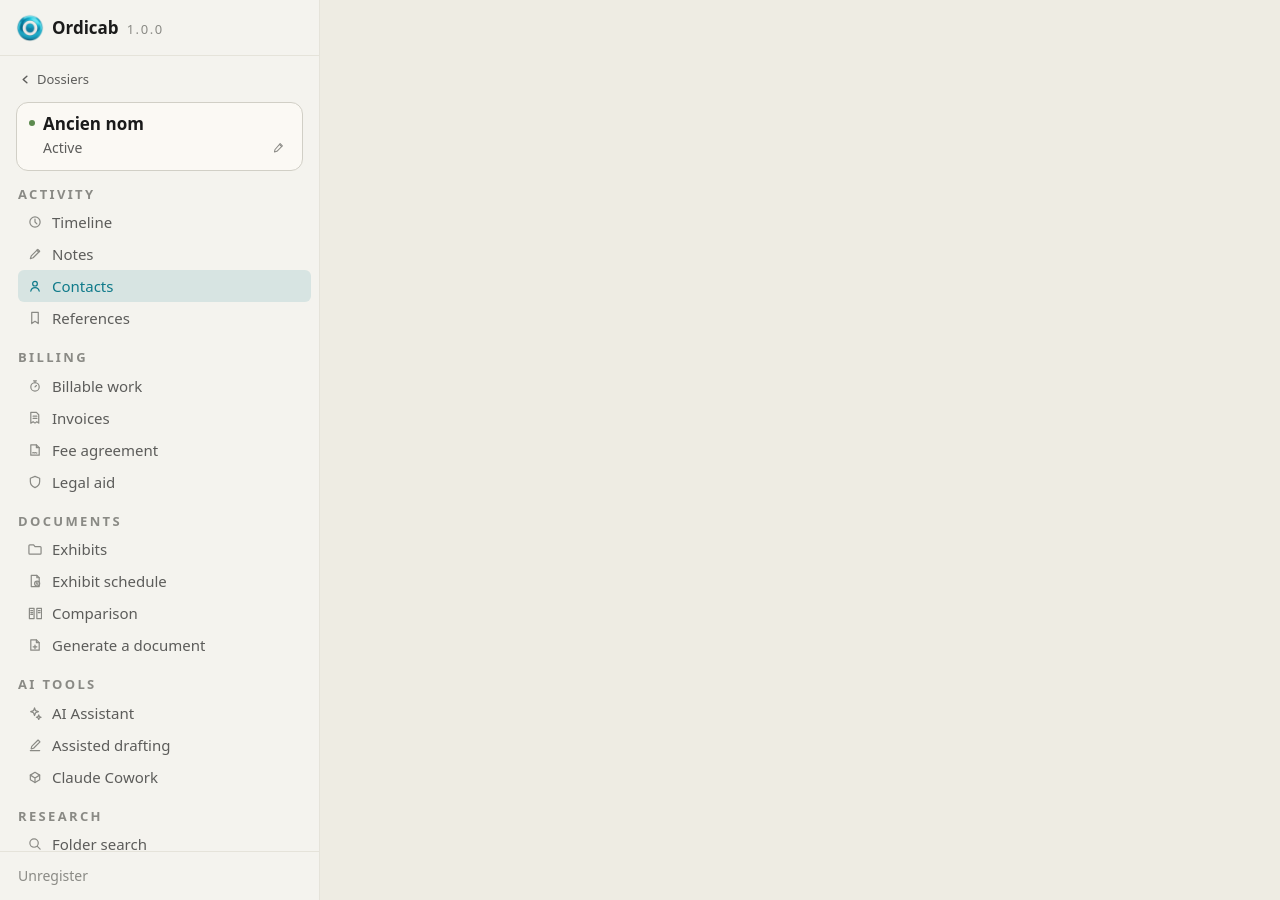
Test: Sidebar › restores the save button when dossier settings save fails
Click the button named "Edit dossier" at (278, 148), box [266,136,290,160]
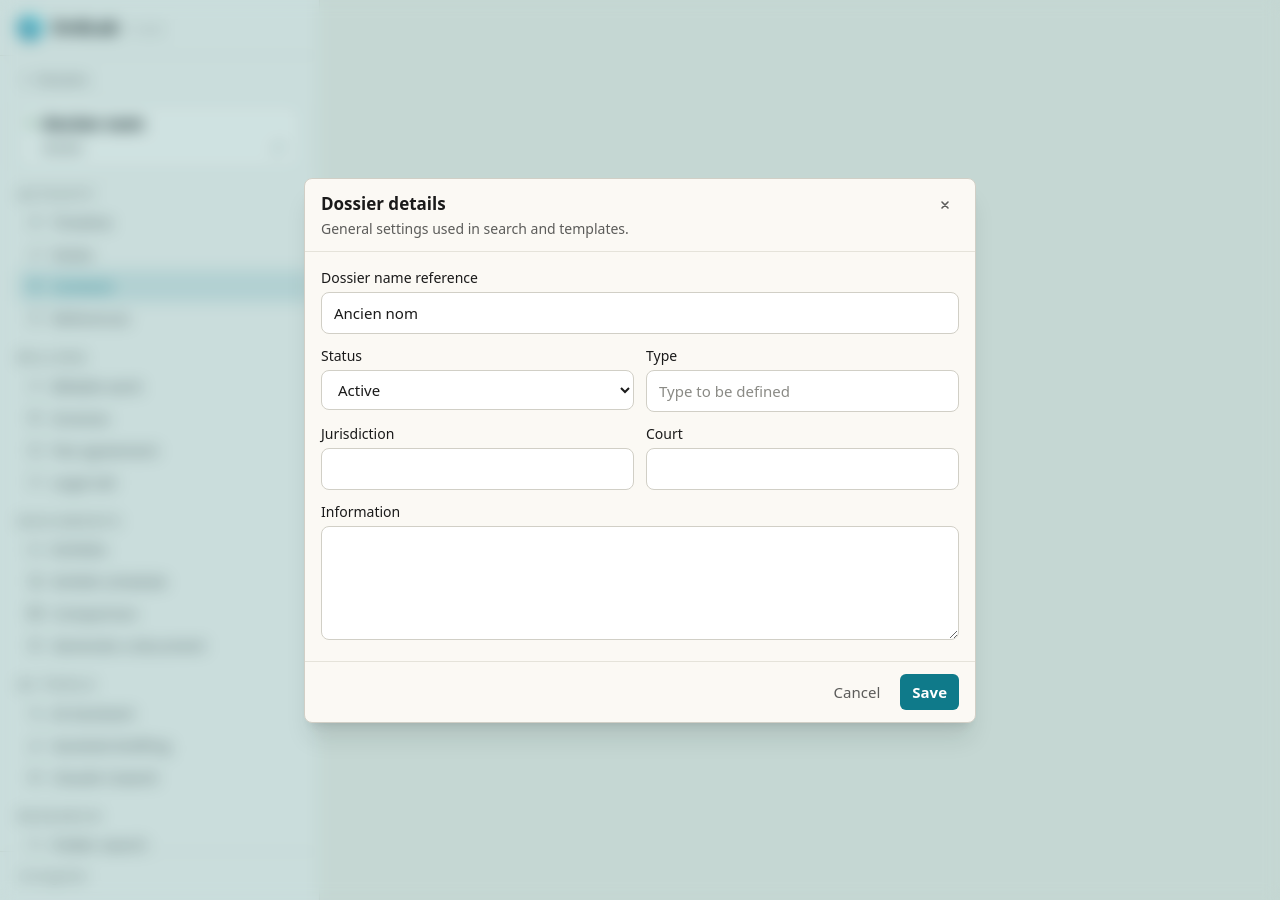
Select "Completed" in the dropdown labelled "Status" at (478, 390), box [321,370,634,410]
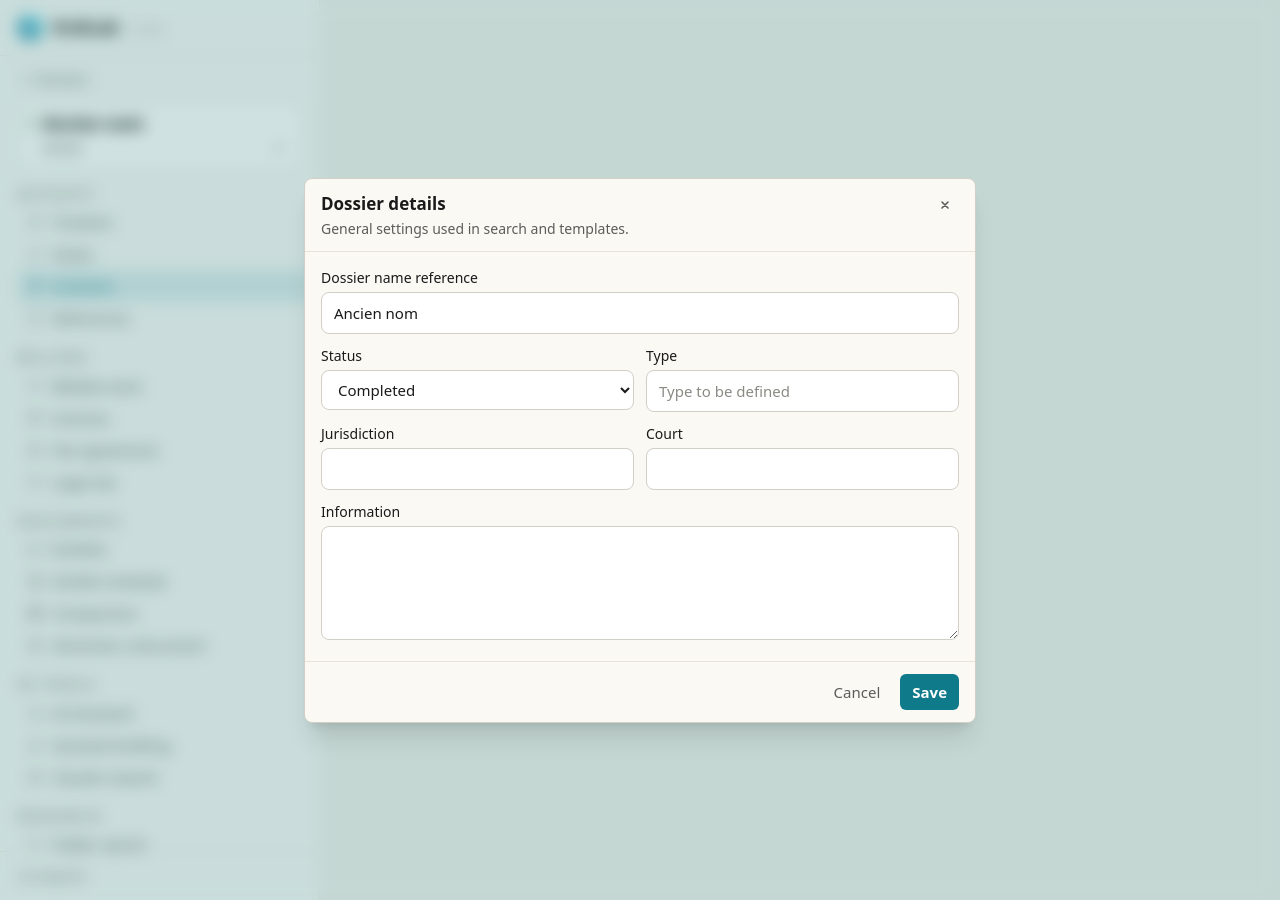
Click the button "Save" at (930, 692), box [900,674,959,710]
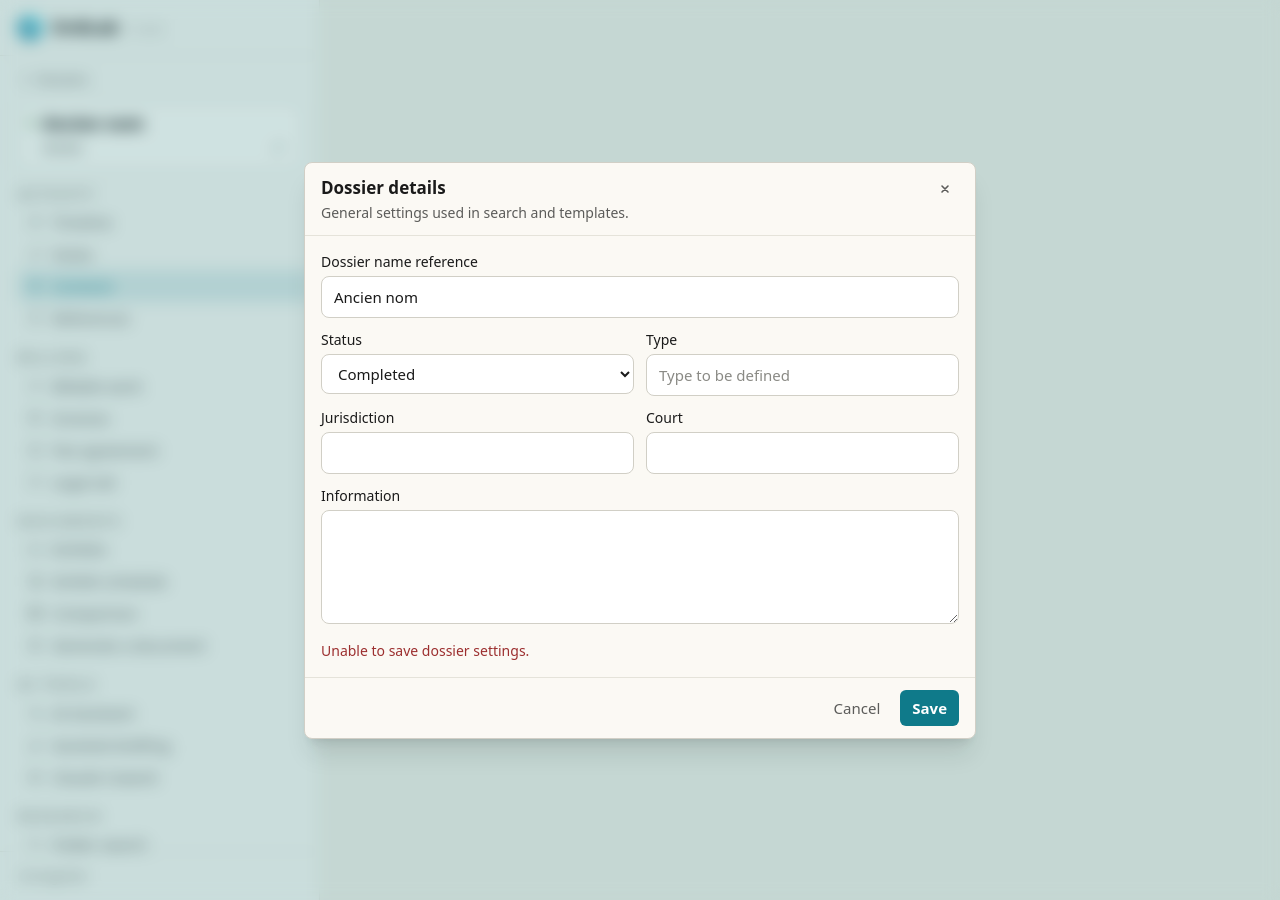
expect the button "Save" is enabled: met, box [900,690,959,726]
expect the text "Unable to save dossier settings." is shown: met, box [321,640,529,660]
